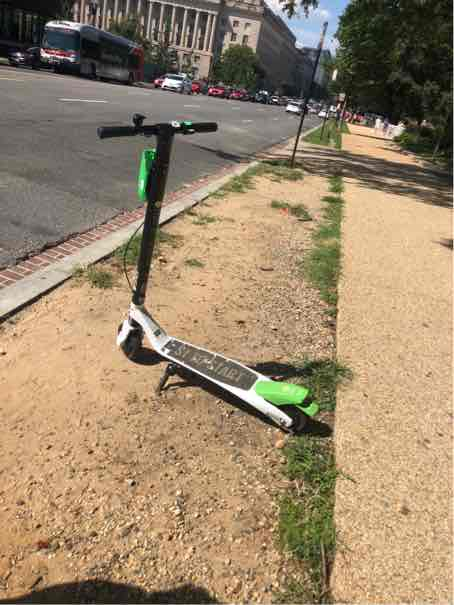scooter: (89, 124, 333, 440)
